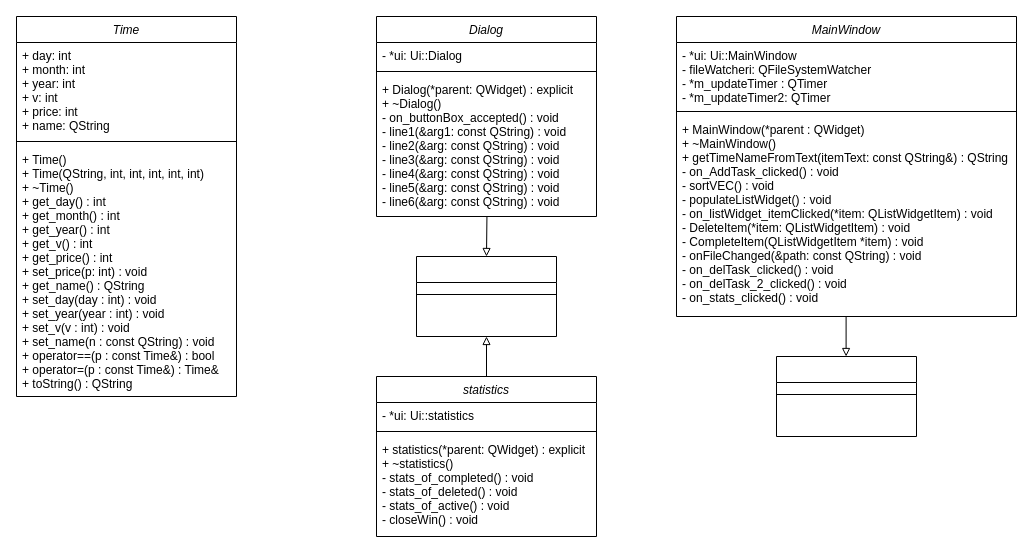
Image size: 1033x553. Some labels were removed from this diagram. The centre of each missing label's shape, as x and y in pixels:
"QDialog" belongs at (486,296).
"QMainWindow" belongs at (846,396).
